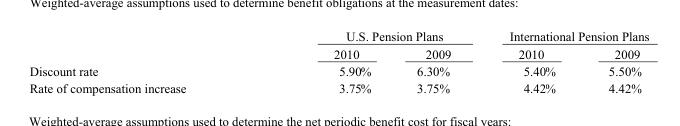table: (28, 28, 648, 95)
table column: (28, 28, 259, 95), (259, 28, 393, 95), (479, 28, 581, 95), (393, 28, 479, 95), (581, 28, 648, 95)
table column header: (28, 28, 648, 62)
table row: (28, 44, 648, 62), (28, 62, 648, 79), (28, 28, 648, 44), (28, 79, 648, 95)
table spanning cell: (259, 28, 479, 44), (479, 28, 648, 44)
